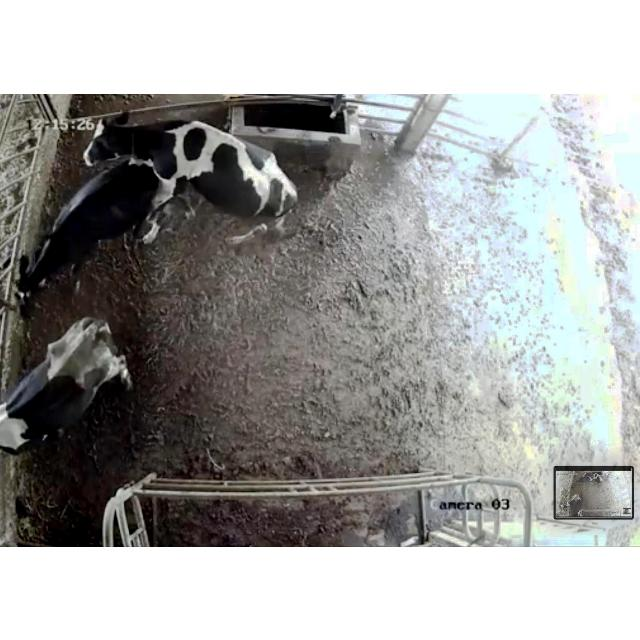ride: (75, 106, 302, 258)
